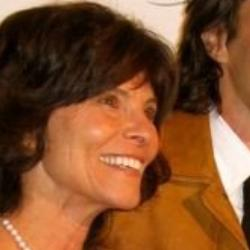face: (2, 4, 174, 223)
